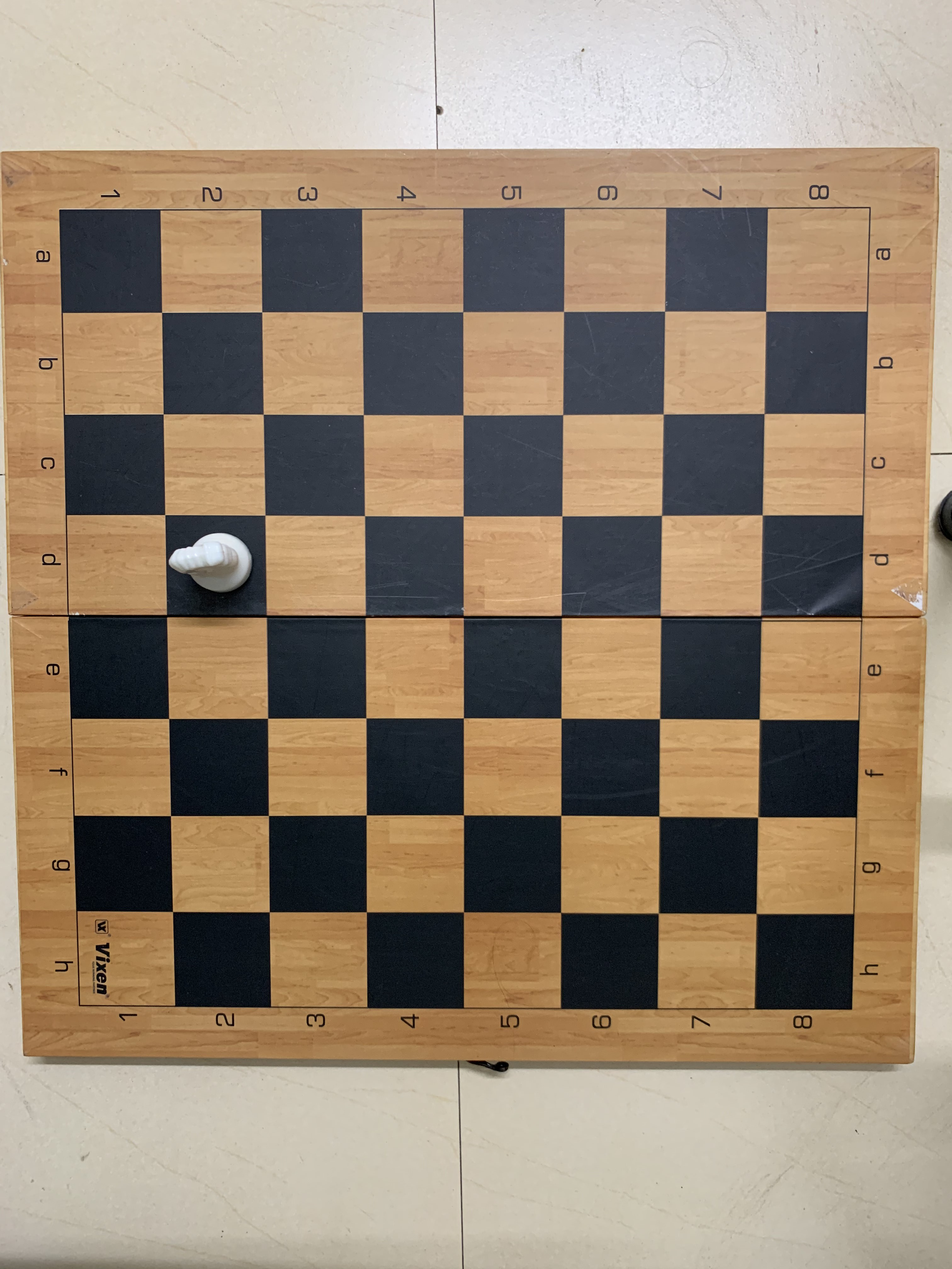white_knight: (163, 515, 271, 608)
